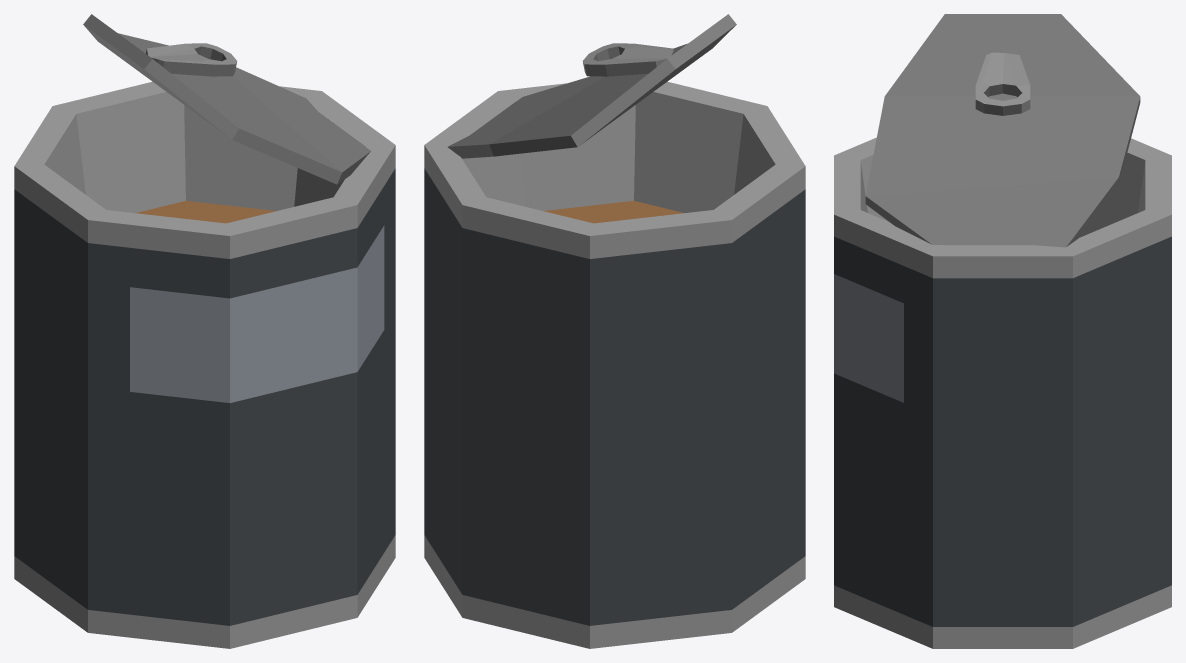
Rendered from CannedFood_11.fbx.
3 views of the same model, side by side, from view 1: azimuth 30°, elevation 25°; view 2: azimuth 150°, elevation 25°; view 3: azimuth 270°, elevation 25° (orthographic). The views are drawn at different scales.
Visible parts, largest first — view 1: CannedFood_11; view 2: CannedFood_11; view 3: CannedFood_11.
Part boxes in pixels (<box>): CannedFood_11: <box>14,14,395,648</box>; CannedFood_11: <box>424,14,805,648</box>; CannedFood_11: <box>834,14,1171,648</box>.
Bounding box in the file's own units: 11.56 × 19.83 × 11.56.
